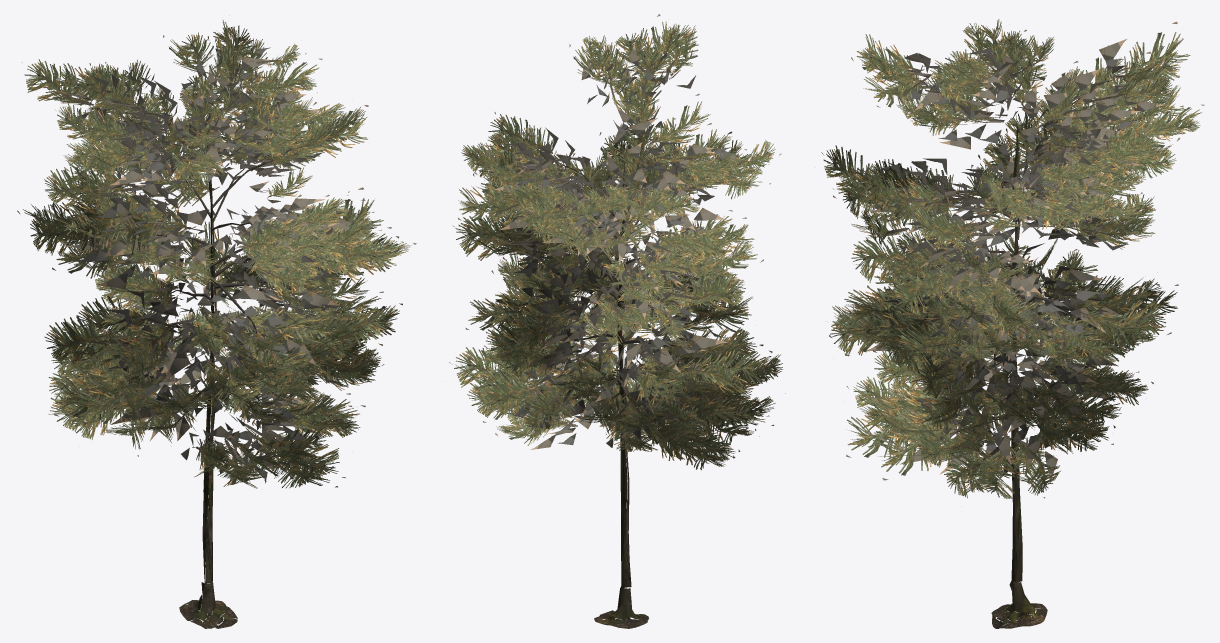
The model's file is veg-tree-pine-lod1-4e07f878faea.glb.
3 renders of one model, left to right at view 1: azimuth 30°, elevation 25°; view 2: azimuth 150°, elevation 25°; view 3: azimuth 270°, elevation 25°, orthographic. The views are drawn at different scales.
Visible parts, largest first — view 1: veg-tree-pine_lod1; view 2: veg-tree-pine_lod1; view 3: veg-tree-pine_lod1.
Part boxes in pixels (left/top/right/bottom): veg-tree-pine_lod1: left=17, top=20, right=416, bottom=628; veg-tree-pine_lod1: left=449, top=14, right=785, bottom=628; veg-tree-pine_lod1: left=821, top=19, right=1204, bottom=628.
Bounding box in the file's own units: 6.93 × 11.5 × 6.79.
Materials: 3 (3 with a texture image).
